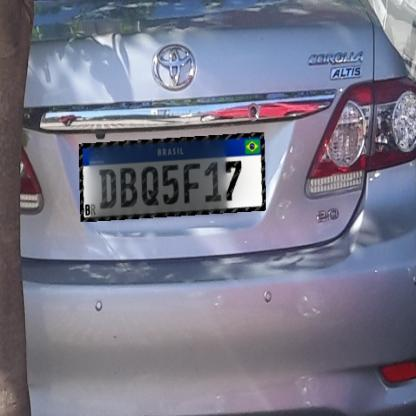PlacaM: (79, 132, 266, 222)
